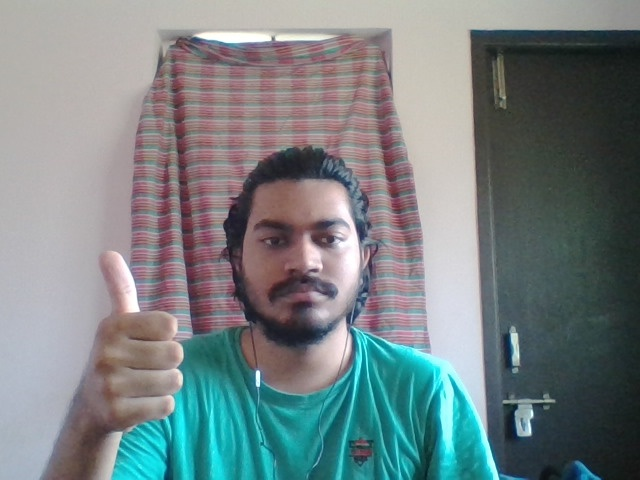ThumbsUp: (89, 250, 184, 433)
